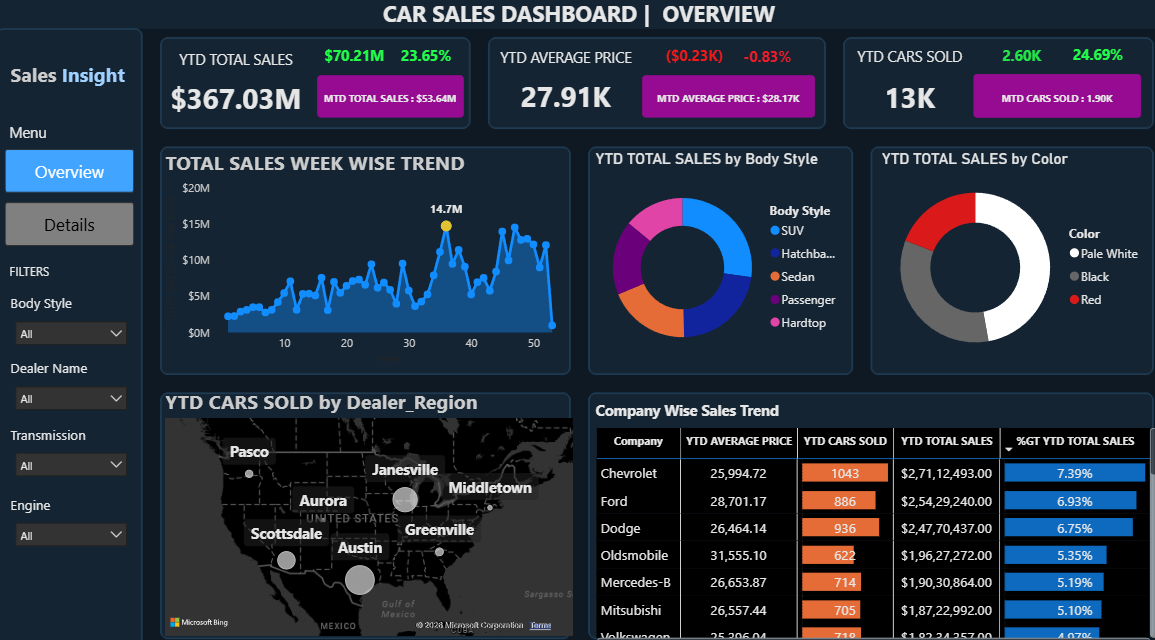

This screenshot's page, from the dashboard's own definition file:
{"tool":"powerbi","page":{"name":"Overview","canvas":[1280,720],"ordinal":0},"visuals":[{"type":"card","title":"YTD TOTAL SALES","fields":{"Values":["Sales_Fact_Table.YTD TOTAL SALES"]},"box":[178.4,49.4,170.2,93.3],"z":0},{"type":"card","fields":{"Values":["Sales_Fact_Table.SALES DIFF"]},"box":[352.3,50,81.4,40.7],"z":1000},{"type":"card","fields":{"Values":["Sales_Fact_Table.YOY TOTAL SALES"]},"box":[422.6,49.4,98.8,39.8],"z":2000},{"type":"card","fields":{"Values":["Sales_Fact_Table.CONCAT"]},"box":[352.7,89.2,160.5,46.7],"z":3000},{"type":"card","title":"YTD AVERAGE PRICE","fields":{"Values":["Sales_Fact_Table.YTD AVERAGE PRICE"]},"box":[540,48.6,170,91.4],"z":4000},{"type":"card","fields":{"Values":["Sales_Fact_Table.CONCAT1"]},"box":[709.4,89.2,189.4,46.7],"z":5000},{"type":"card","fields":{"Values":["Sales_Fact_Table.AVERAGE PRICE DIFF"]},"box":[718.6,43,95.3,53.5],"z":6000},{"type":"card","fields":{"Values":["Sales_Fact_Table.YOY AVG PRICE GROWTH"]},"box":[804.1,48,85.1,46.7],"z":7000},{"type":"card","title":"YTD CARS SOLD","fields":{"Values":["Sales_Fact_Table.YTD CARS SOLD"]},"box":[923.3,46.5,159.3,96.5],"z":8000},{"type":"card","title":"MTD CAR SOLD","fields":{"Values":["Sales_Fact_Table.CONCAT CARS SOLD"]},"box":[1073.3,88.4,183.7,47.7],"z":9000},{"type":"card","fields":{"Values":["Sales_Fact_Table.CAR SOLD DIFF"]},"box":[1086.8,49.4,78.2,41.2],"z":10000},{"type":"card","fields":{"Values":["Sales_Fact_Table.YOY CARS SOLD"]},"box":[1162.3,42.5,94.7,52.1],"z":11000},{"type":"areaChart","title":"TOTAL SALES WEEK WISE TREND","fields":{"Y":["Sales_Fact_Table.TOTAL SALES","Sales_Fact_Table.max point"],"Category":["Date.week"]},"box":[181.1,170.2,444.6,241.5],"z":12000},{"type":"donutChart","fields":{"Category":["Dim_BodyStyle.Body Style"],"Y":["Sales_Fact_Table.YTD TOTAL SALES"]},"box":[653.2,170.2,284,241.5],"z":13000},{"type":"donutChart","fields":{"Y":["Sales_Fact_Table.YTD TOTAL SALES"],"Category":["Dim_CarColour.Color"]},"box":[967.4,170.2,300.5,241.5],"z":14000},{"type":"map","fields":{"Category":["Dim_DealerRegion.Dealer_Region"],"Size":["Sales_Fact_Table.YTD CARS SOLD"]},"box":[181.1,432.2,458.3,277.2],"z":15000},{"type":"tableEx","title":"Company Wise Sales Trend","fields":{"Values":["Dim_Car.Company","Sales_Fact_Table.YTD AVERAGE PRICE","Sales_Fact_Table.YTD CARS SOLD","Sales_Fact_Table.YTD TOTAL SALES","Divide(Sales_Fact_Table.YTD TOTAL SALES, ScopedEval(Sales_Fact_Table.YTD TOTAL SALES, []))"]},"box":[652.8,445.8,627.8,275],"z":16000},{"type":"slicer","title":"Body Style","fields":{"Values":["Dim_BodyStyle.Body Style"]},"box":[11,325.2,142.7,68.6],"z":17000},{"type":"slicer","title":"Dealer Name","fields":{"Values":["Dim_Dealer.Dealer_Name"]},"box":[11,396.6,142.7,72.7],"z":18000},{"type":"slicer","title":"Transmission","fields":{"Values":["Dim_Engine.Transmission"]},"box":[11,469.3,142.7,76.8],"z":19000},{"type":"slicer","title":"Engine","fields":{"Values":["Dim_Engine.Engine"]},"box":[11,546.1,142.7,74.1],"z":20000},{"type":"textbox","box":[0,0,1280,50],"z":21000},{"type":"textbox","box":[9.6,290.9,72.7,34.3],"z":22000},{"type":"pageNavigator","box":[9.6,170.2,142.7,107],"z":23000},{"type":"textbox","box":[11,68.6,141.3,43.9],"z":24000},{"type":"textbox","box":[9.6,135.8,54.9,34.3],"z":25000}]}

Visuals, with their boxes on the page's 1280x720 design canvas (x1, y1, x2, y2). These are canvas units, not pixel positions in the 1155x640 screenshot, which may show the page scaled, cropped or inside an application window:
"YTD TOTAL SALES" card: region(178, 49, 349, 143)
card - Sales_Fact_Table.SALES DIFF: region(352, 50, 434, 91)
card - Sales_Fact_Table.YOY TOTAL SALES: region(423, 49, 521, 89)
card - Sales_Fact_Table.CONCAT: region(353, 89, 513, 136)
"YTD AVERAGE PRICE" card: region(540, 49, 710, 140)
card - Sales_Fact_Table.CONCAT1: region(709, 89, 899, 136)
card - Sales_Fact_Table.AVERAGE PRICE DIFF: region(719, 43, 814, 96)
card - Sales_Fact_Table.YOY AVG PRICE GROWTH: region(804, 48, 889, 95)
"YTD CARS SOLD" card: region(923, 46, 1083, 143)
"MTD CAR SOLD" card: region(1073, 88, 1257, 136)
card - Sales_Fact_Table.CAR SOLD DIFF: region(1087, 49, 1165, 91)
card - Sales_Fact_Table.YOY CARS SOLD: region(1162, 42, 1257, 95)
"TOTAL SALES WEEK WISE TREND" areaChart: region(181, 170, 626, 412)
donutChart - Dim_BodyStyle.Body Style x Sales_Fact_Table.YTD TOTAL SALES: region(653, 170, 937, 412)
donutChart - Sales_Fact_Table.YTD TOTAL SALES x Dim_CarColour.Color: region(967, 170, 1268, 412)
map - Dim_DealerRegion.Dealer_Region x Sales_Fact_Table.YTD CARS SOLD: region(181, 432, 639, 709)
"Company Wise Sales Trend" tableEx: region(653, 446, 1281, 721)
"Body Style" slicer: region(11, 325, 154, 394)
"Dealer Name" slicer: region(11, 397, 154, 469)
"Transmission" slicer: region(11, 469, 154, 546)
"Engine" slicer: region(11, 546, 154, 620)
textbox: region(0, 0, 1280, 50)
textbox: region(10, 291, 82, 325)
pageNavigator: region(10, 170, 152, 277)
textbox: region(11, 69, 152, 112)
textbox: region(10, 136, 64, 170)
